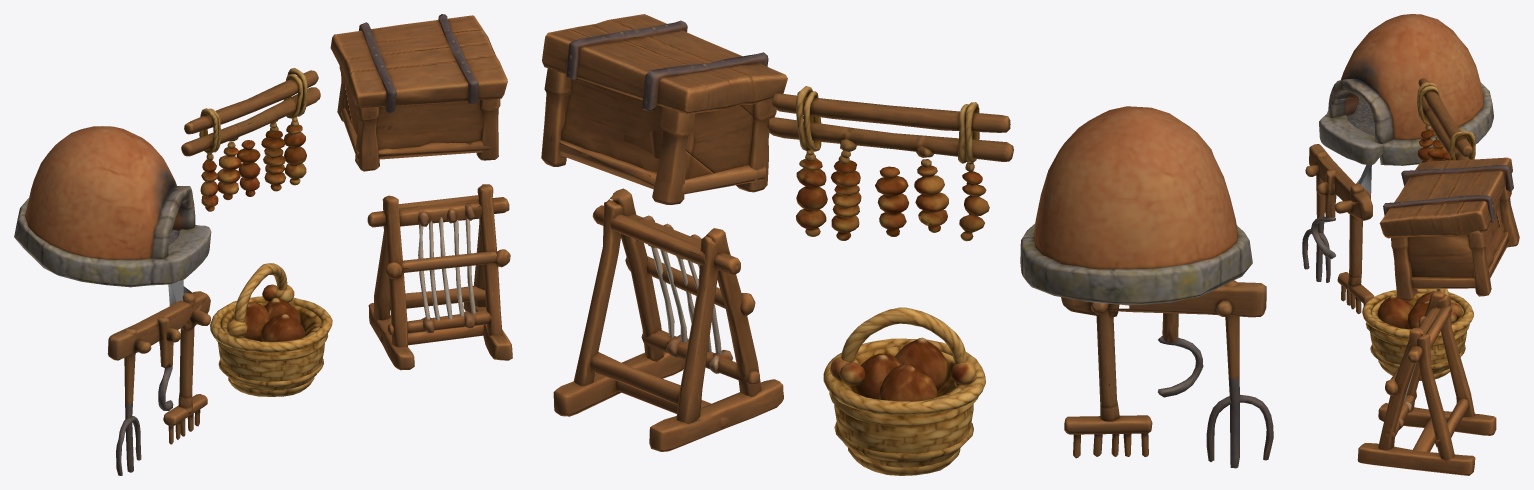
The model's file is coleccion_hogar_rustico.glb.
3 views of the same model, side by side, from view 1: azimuth 30°, elevation 25°; view 2: azimuth 150°, elevation 25°; view 3: azimuth 270°, elevation 25° (orthographic). The views are drawn at different scales.
Visible parts, largest first — view 1: geometry_0; view 2: geometry_0; view 3: geometry_0.
Part boxes in pixels (left/top/right/bottom): geometry_0: left=14, top=14, right=512, bottom=475; geometry_0: left=541, top=14, right=1273, bottom=475; geometry_0: left=1302, top=14, right=1519, bottom=475.
Bounding box in the file's own units: 1 × 0.6052 × 0.4322.
1 material, 1 textured.
